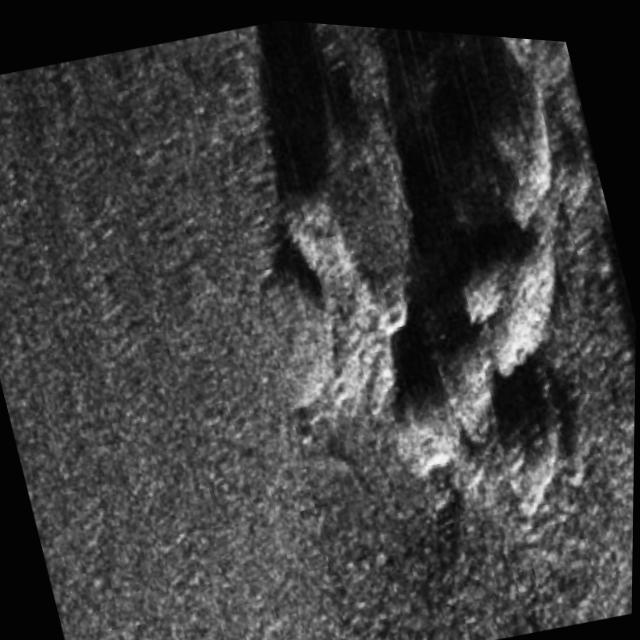bedrock group: (201, 12, 640, 564)
